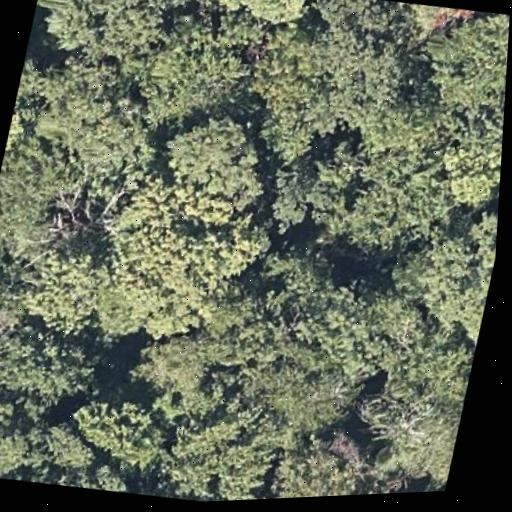tree-top: (94, 162, 280, 298), (347, 320, 478, 489), (242, 17, 409, 143), (301, 136, 462, 255), (260, 248, 403, 376), (375, 200, 499, 335), (133, 7, 260, 128), (28, 70, 158, 187), (148, 103, 284, 213), (260, 422, 440, 499), (154, 404, 285, 504), (87, 250, 211, 355), (237, 335, 363, 434), (411, 4, 510, 122), (0, 129, 82, 263), (24, 0, 170, 74), (60, 387, 178, 474), (0, 321, 108, 412), (18, 240, 111, 338), (351, 94, 461, 172), (249, 141, 334, 238), (119, 328, 216, 404), (185, 0, 322, 45), (318, 0, 426, 53), (429, 138, 502, 208), (0, 393, 44, 482)
